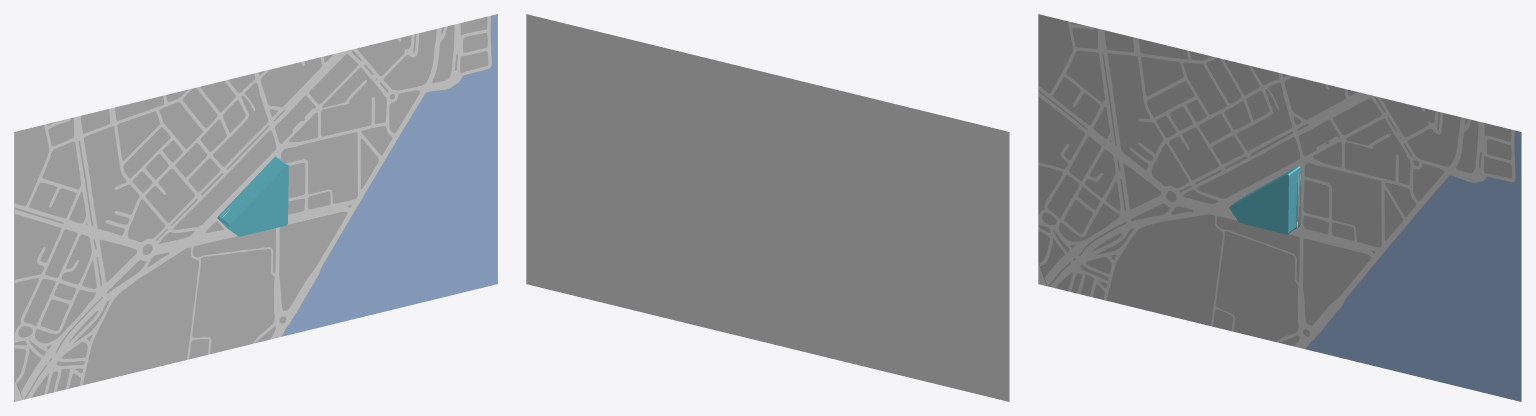
The picture shows the model from 3 angles, left to right: view 1: azimuth 30°, elevation 25°; view 2: azimuth 150°, elevation 25°; view 3: azimuth 330°, elevation 25°; orthographic projection.
Parts seen in each view (by area): view 1: SITE_1_Site, BUILDING_1_Main, ExtrudeMesh; view 2: ExtrudeMesh; view 3: SITE_1_Site, BUILDING_1_Main, ExtrudeMesh.
Part boxes in pixels (x1,y1,x2,y2): SITE_1_Site: (14,14,497,401); BUILDING_1_Main: (217,156,288,236); ExtrudeMesh: (14,14,495,401); ExtrudeMesh: (526,14,1009,401); SITE_1_Site: (1038,14,1521,401); BUILDING_1_Main: (1229,166,1300,234); ExtrudeMesh: (1040,14,1521,401).
Bounding box in the file's own units: 7300 × 3900 × 314.
